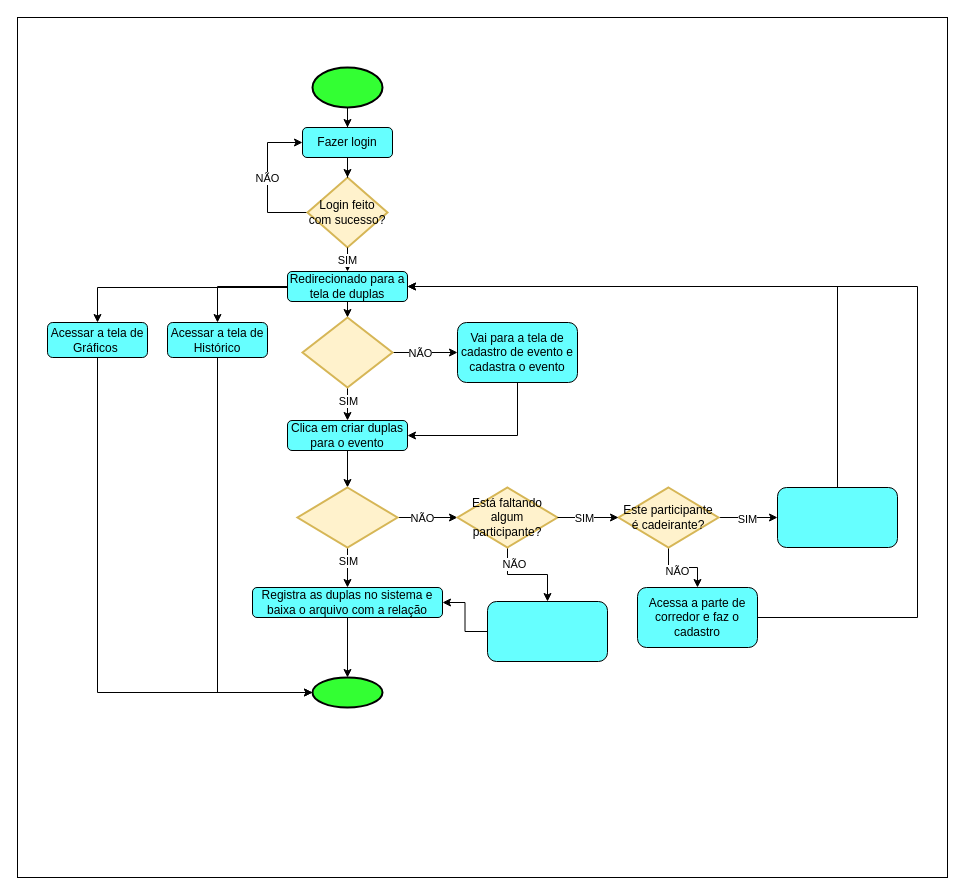
Some shapes in this 965 by 895 pixel diagram are drawn without their labels. Here are the shapes that lost their labels. From the top down, the centre of each, then its label:
the point at 347,87: Início
the point at 347,352: Existe o evento cadastrado?
the point at 347,517: Formação das duplas é satisfatória?
the point at 837,517: Acessa a parte de cadeirante e faz o cadastro
the point at 547,631: Edita as duplas para a corrida
the point at 347,692: Fim
